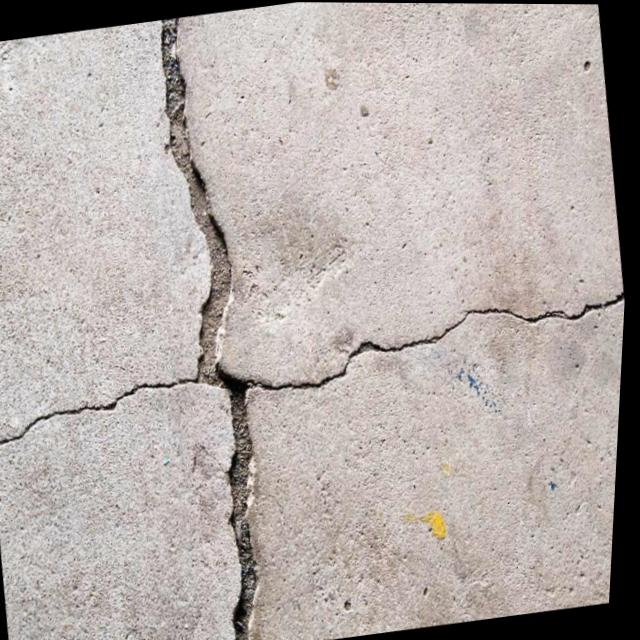Crack: (244, 269, 629, 411), (138, 12, 269, 382), (190, 358, 309, 640), (0, 360, 215, 459)
